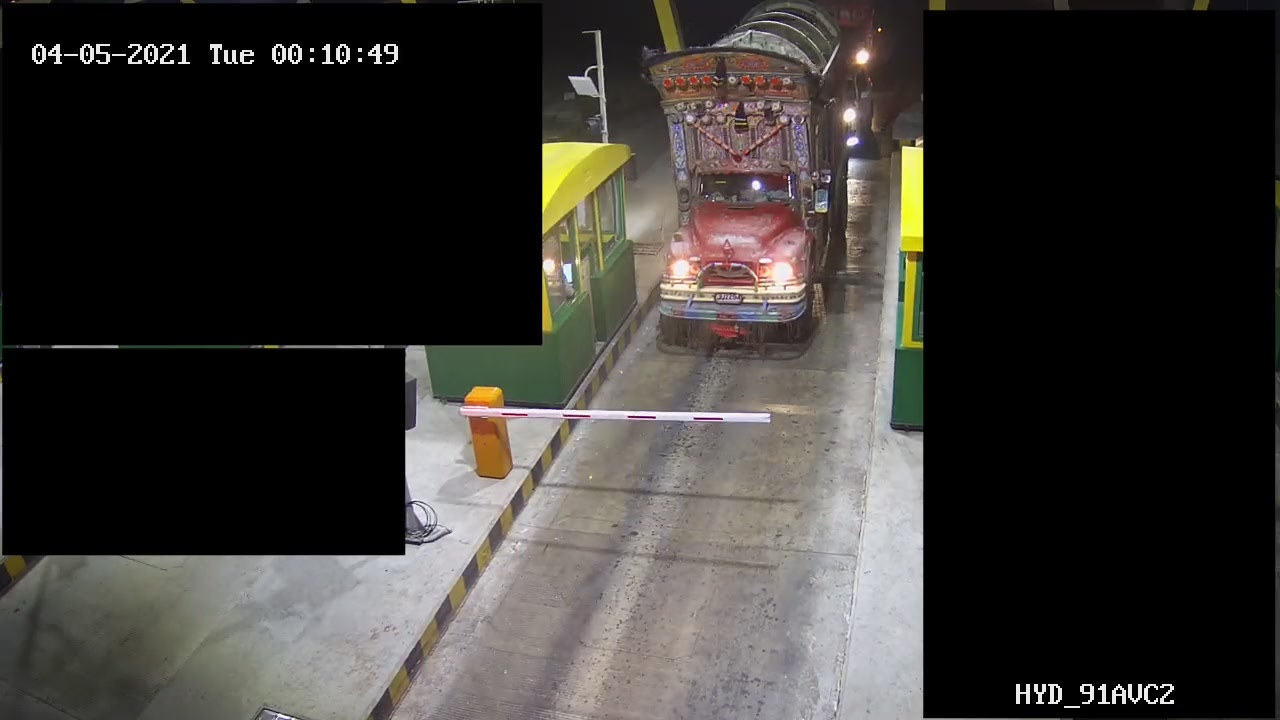F5: (638, 5, 850, 350)
